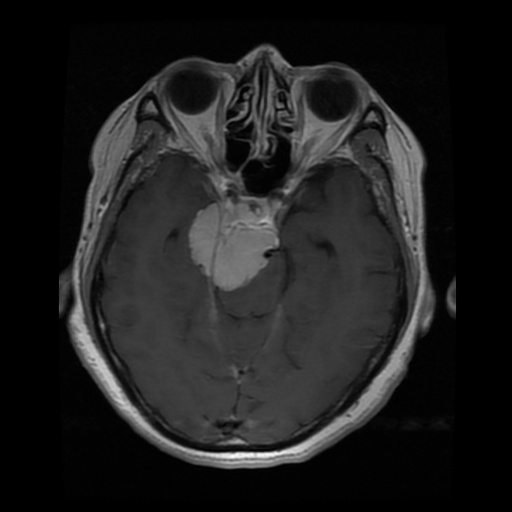meningioma: (189, 194, 279, 290)
